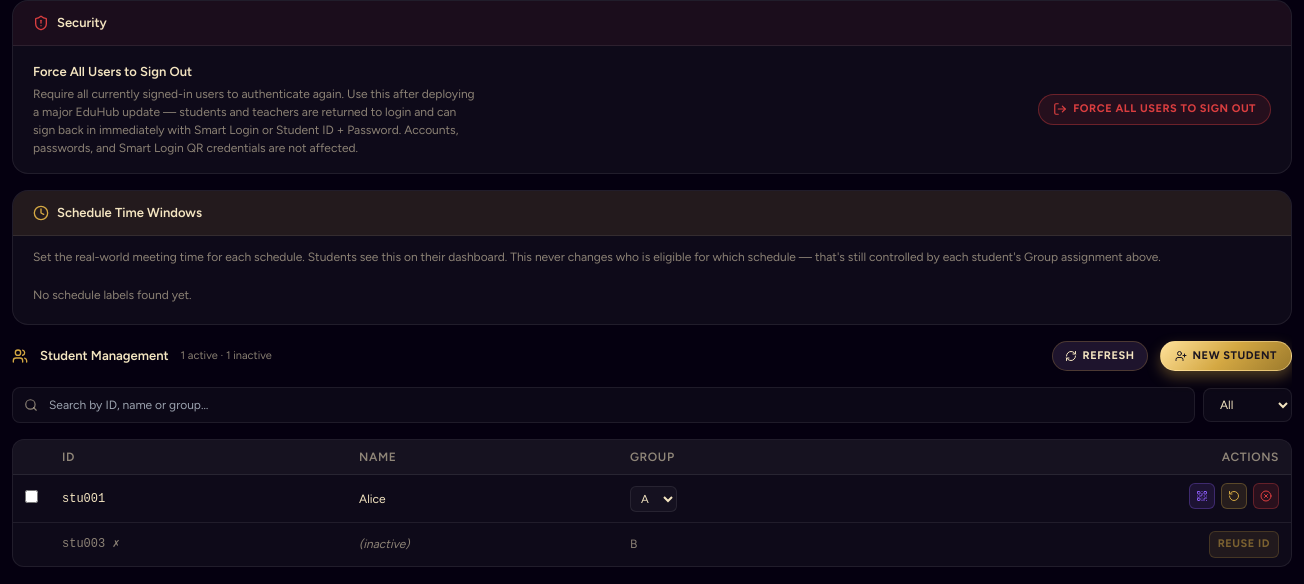
StudentManager — CreateForm reuse-slot purge checkbox (item 3) › the notice and checkbox only appear when the typed ID matches an INACTIVE student
Click the button with test id "student-new-btn": click(1226, 356) [1160,340,1292,371]
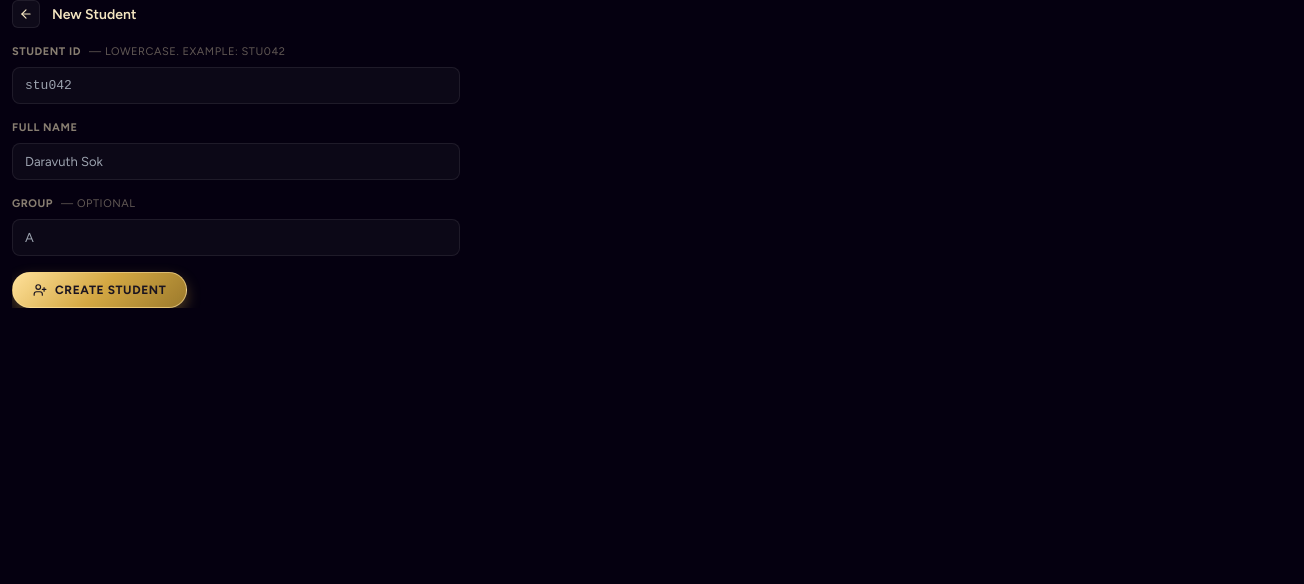
In the field with test id "student-create-id": (236, 85) [12,66,460,104], type "stu003"
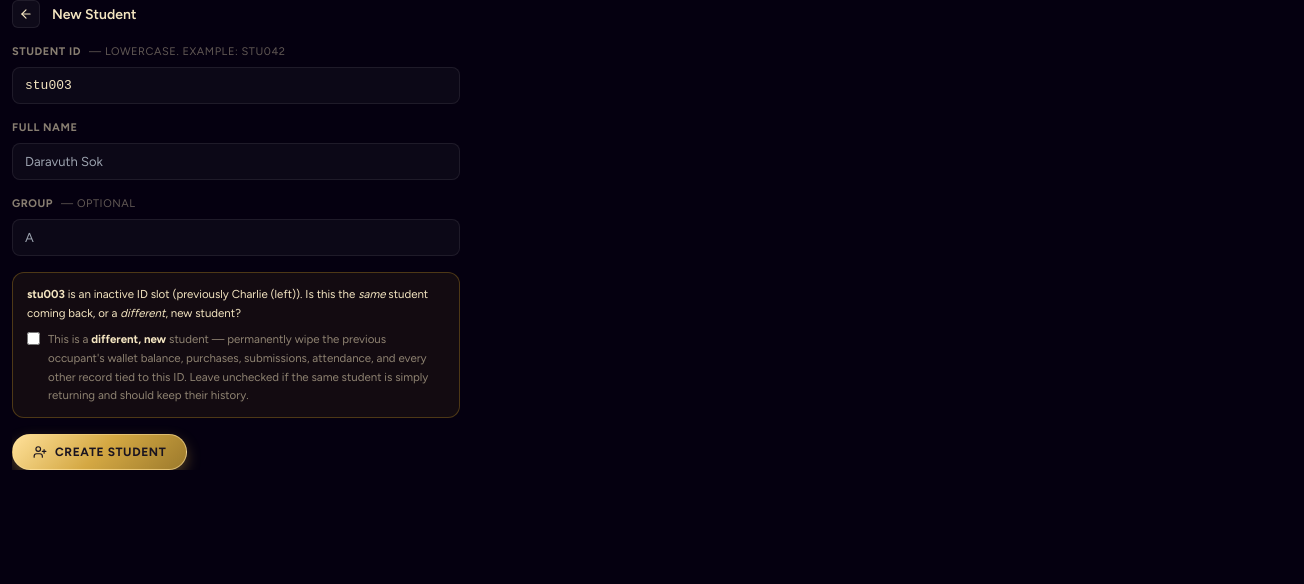
Expected: the element with test id "student-reuse-slot-notice" is shown, [12,272,460,418]
Expected: the checkbox with test id "student-create-purge-checkbox" is not checked, [27,332,40,345]
